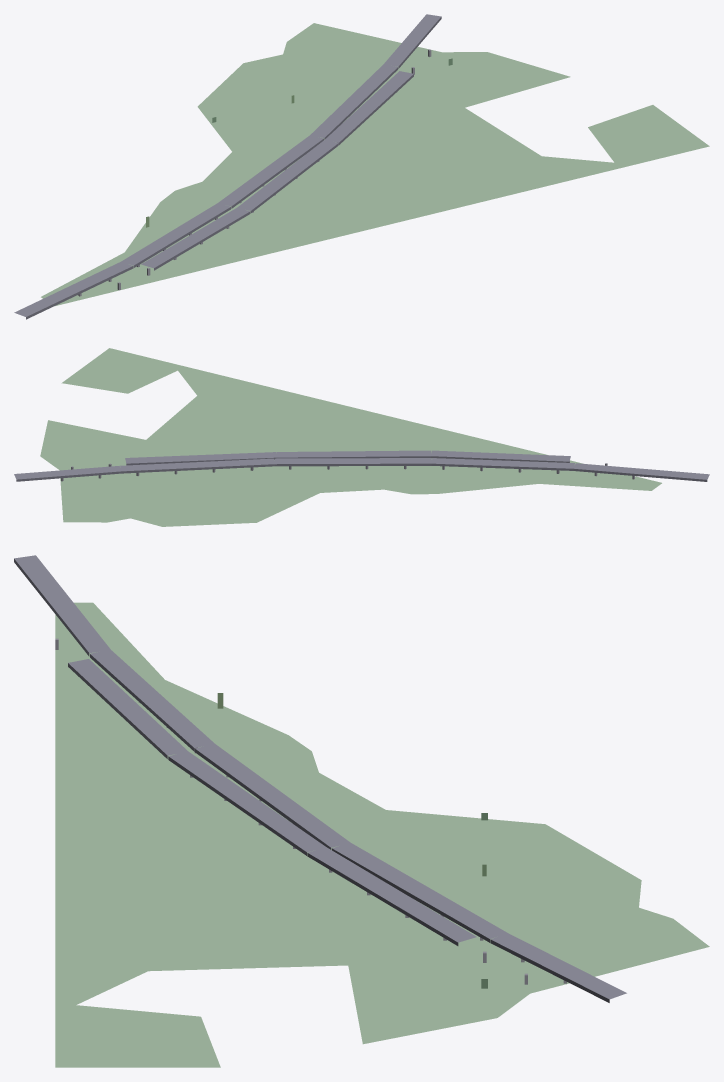
3 renders of one model, top to bottom at view 1: azimuth 30°, elevation 25°; view 2: azimuth 150°, elevation 25°; view 3: azimuth 270°, elevation 25°, orthographic. The views are drawn at different scales.
Size of the model in its own units: 535 by 8.51 by 316.
